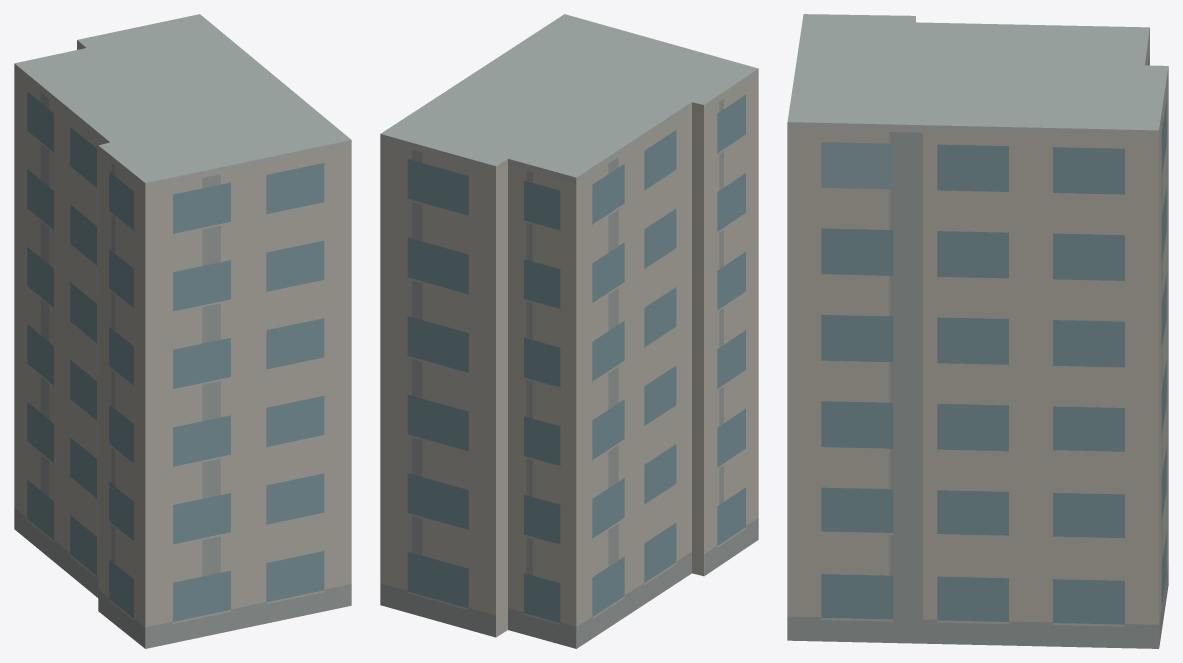
The model's file is survey-upis-32806722.glb.
3 renders of one model, left to right at view 1: azimuth 30°, elevation 25°; view 2: azimuth 150°, elevation 25°; view 3: azimuth 270°, elevation 25°, orthographic. The views are drawn at different scales.
Parts seen in each view (by area): view 1: survey-upis-32806722.tmp; view 2: survey-upis-32806722.tmp; view 3: survey-upis-32806722.tmp.
Part boxes in pixels (x1,y1,x2,y2): survey-upis-32806722.tmp: (14,14,351,648); survey-upis-32806722.tmp: (380,14,758,648); survey-upis-32806722.tmp: (787,14,1168,648).
Size of the model in its own units: 8.02 by 16.65 by 11.1.
